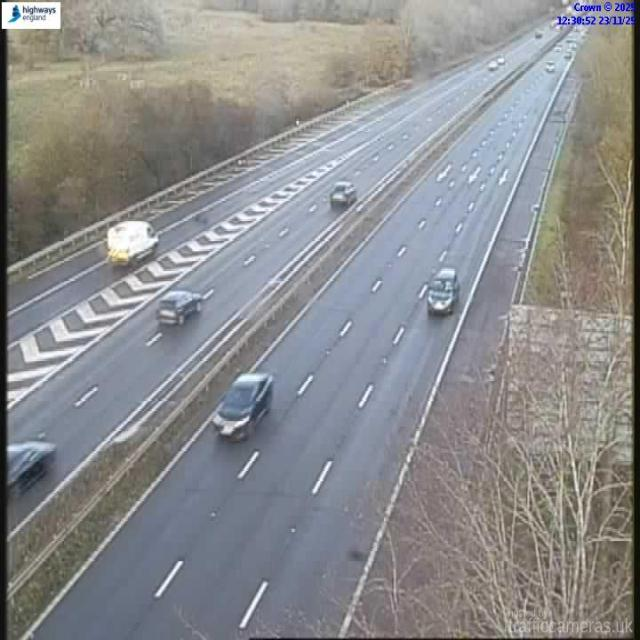foliage: (363, 283, 635, 637), (9, 82, 252, 252), (540, 29, 633, 309), (326, 0, 519, 84)
